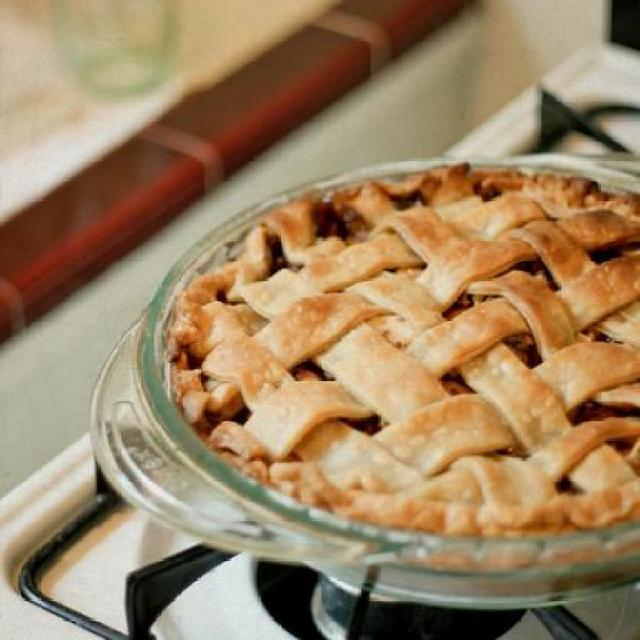Apple: (181, 170, 639, 542)
